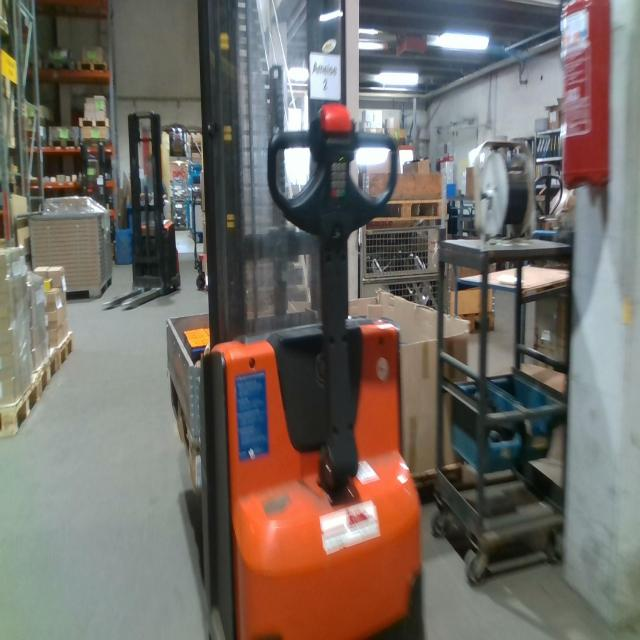pallet: (364, 193, 446, 227), (1, 374, 37, 444), (56, 322, 77, 388), (42, 341, 54, 415), (78, 55, 109, 77), (79, 112, 113, 131), (43, 55, 74, 75), (47, 136, 79, 152)
pallet_truck: (188, 2, 430, 640), (107, 98, 183, 314), (183, 181, 212, 297), (532, 162, 565, 236), (83, 133, 111, 213)
stillage: (358, 213, 452, 325), (24, 205, 117, 305), (526, 249, 572, 371)
